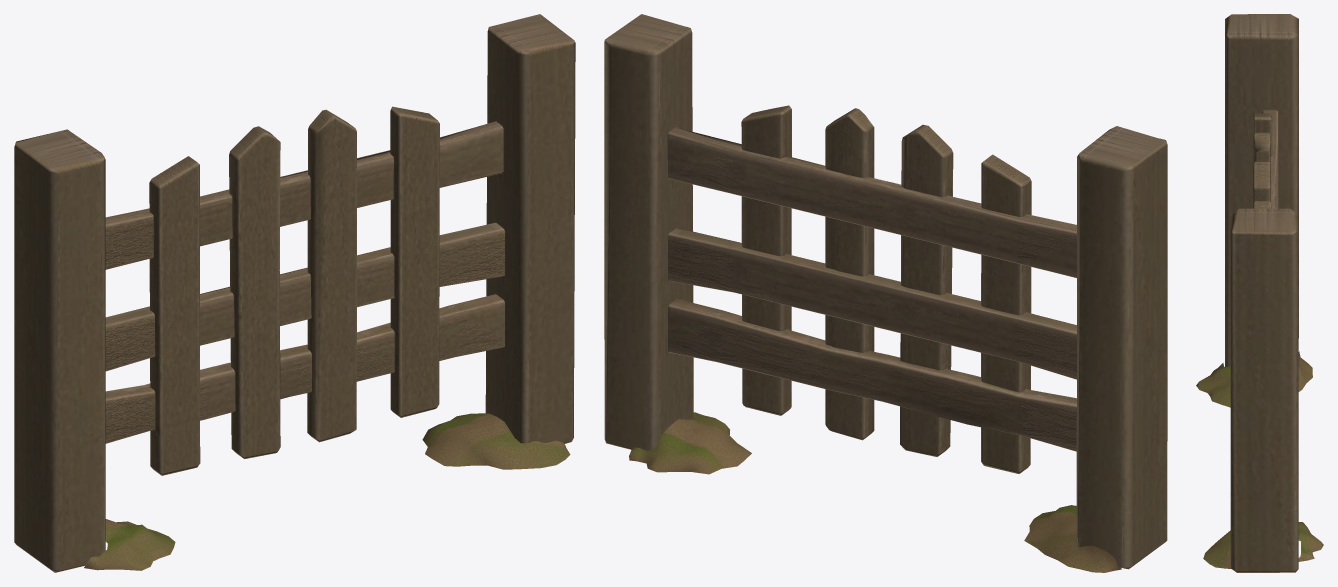
Rendered from pasture-fence.glb.
The picture shows the model from 3 angles, left to right: view 1: azimuth 30°, elevation 25°; view 2: azimuth 150°, elevation 25°; view 3: azimuth 270°, elevation 25°; orthographic projection. The views are drawn at different scales.
Size of the model in its own units: 0.9575 by 0.7016 by 0.2363.
1 material, 1 textured.
